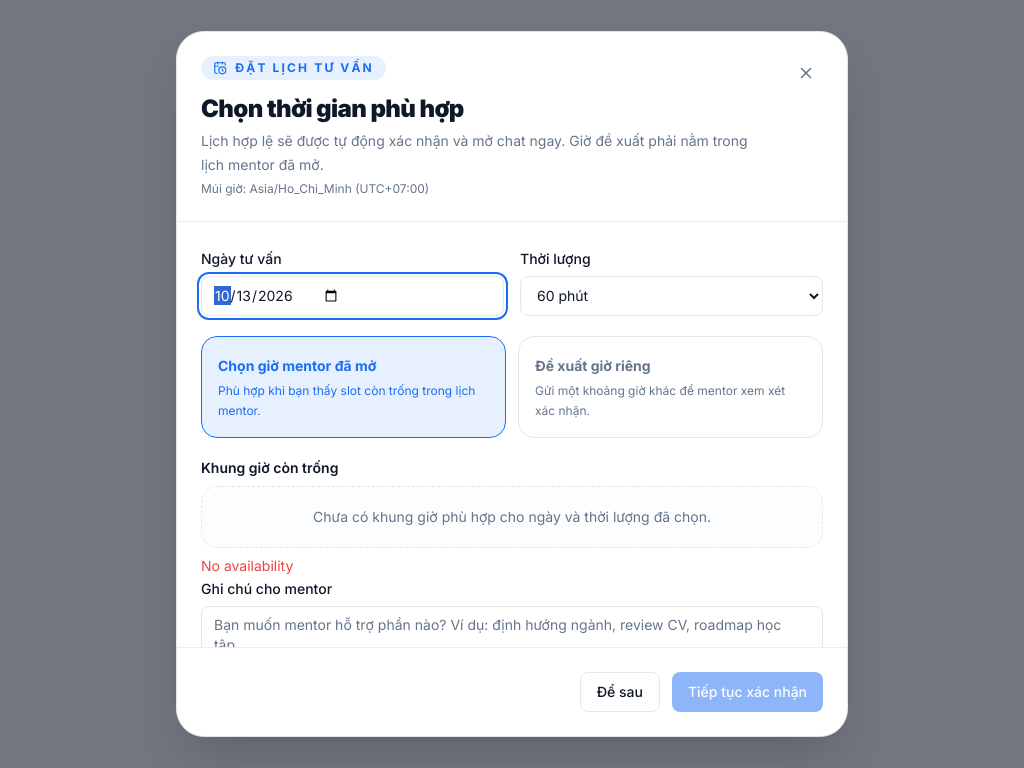
Test: booking calendar and expiry labels › explains automatic confirmation when the mentor has enabled it
Expected: the text "Lịch hợp lệ sẽ được tự động xác nhận" is shown, [201, 132, 748, 173]
Click the button that starts with "Đề xuất giờ riêng". click: (670, 387)
box: [518, 336, 823, 438]
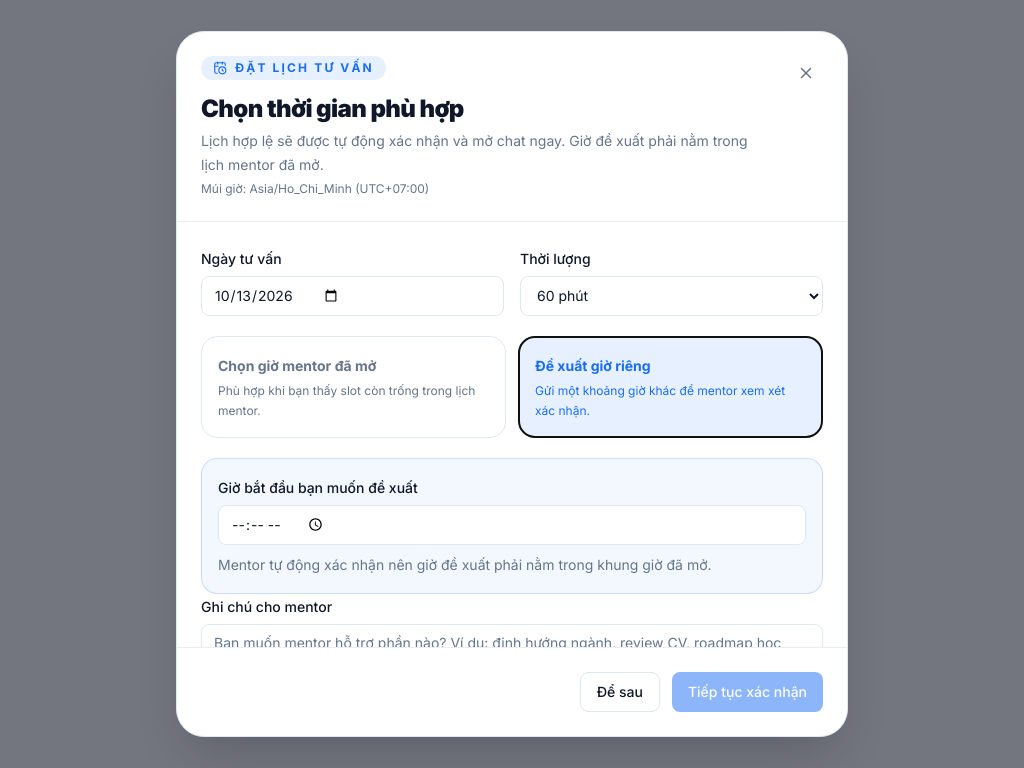
Type "10:00" into the time field labelled "Giờ bắt đầu bạn muốn đề xuất". click: (512, 525)
box: [218, 505, 806, 545]
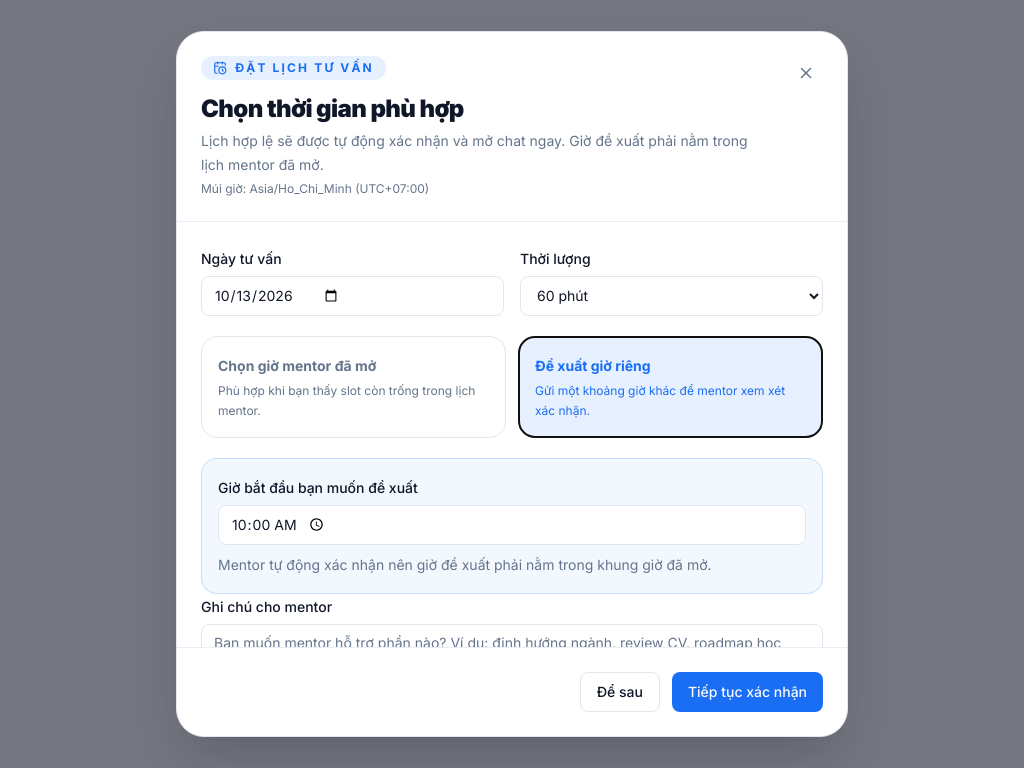
Click the button "Tiếp tục xác nhận". click: (748, 692)
box: [672, 672, 823, 712]
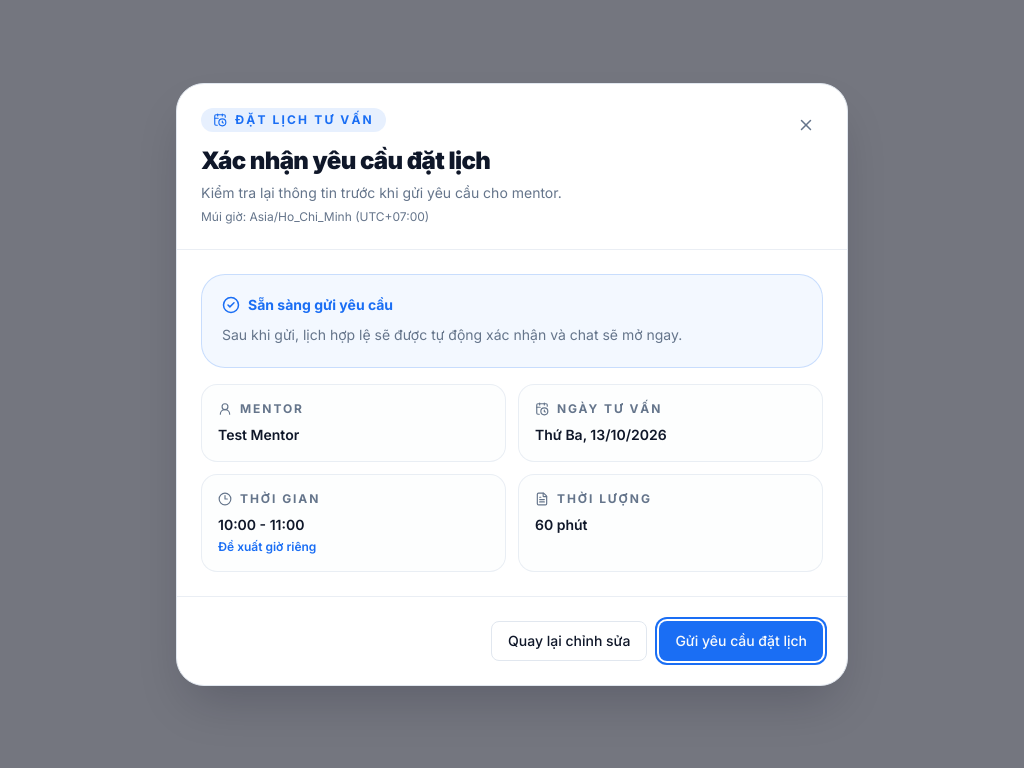
Expected: the text "Sau khi gửi, lịch hợp lệ sẽ được tự động xác nhận" is shown, [222, 326, 682, 342]
